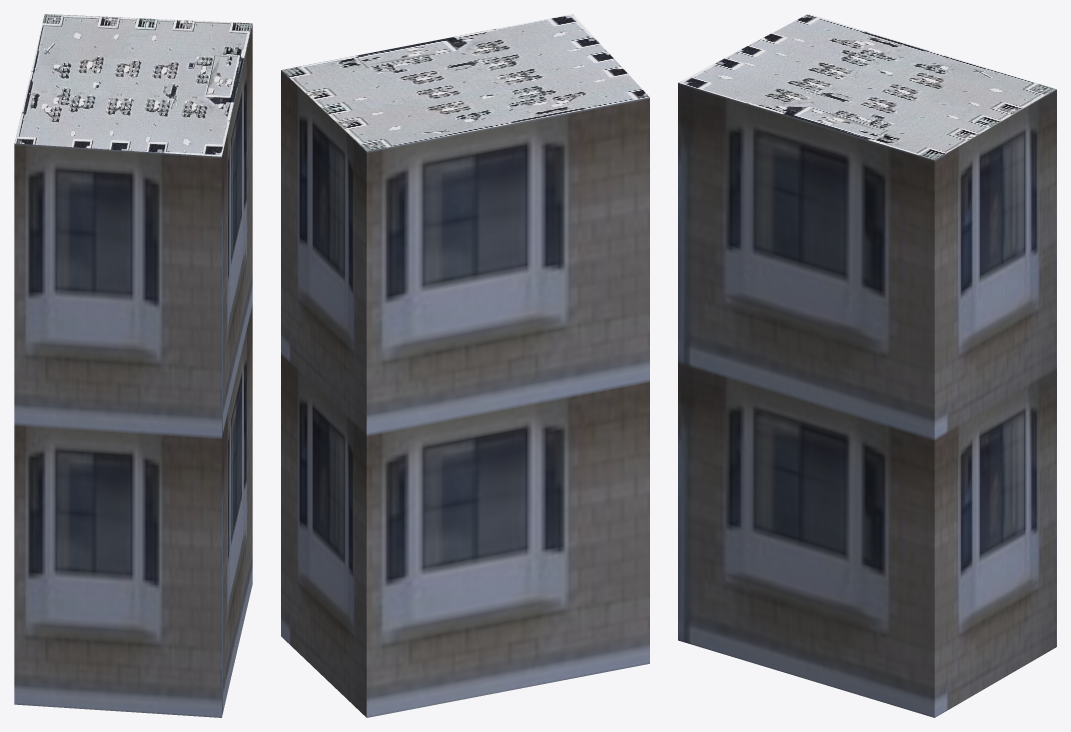
The model's file is ResTex__4300.fbx.
3 renders of one model, left to right at view 1: azimuth 30°, elevation 25°; view 2: azimuth 150°, elevation 25°; view 3: azimuth 270°, elevation 25°, orthographic.
Parts seen in each view (by area): view 1: CityEngineMaterial_3_m, CityEngineMaterial_8_m; view 2: CityEngineMaterial_3_m, CityEngineMaterial_8_m; view 3: CityEngineMaterial_3_m, CityEngineMaterial_8_m.
Part boxes in pixels (x1,y1,x2,y2): CityEngineMaterial_3_m: (14, 24, 252, 717); CityEngineMaterial_8_m: (14, 14, 252, 156); CityEngineMaterial_3_m: (281, 70, 649, 717); CityEngineMaterial_8_m: (281, 14, 649, 151); CityEngineMaterial_3_m: (678, 83, 1056, 717); CityEngineMaterial_8_m: (678, 14, 1056, 160).
Size of the model in its own units: 3.38 by 6 by 3.69.
Materials: 2 (2 with a texture image).
